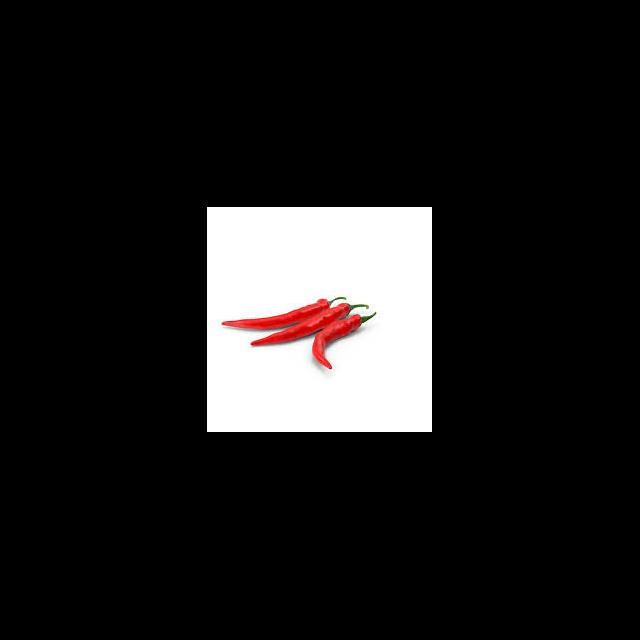chili_pepper: (250, 304, 350, 346), (222, 300, 333, 330), (314, 316, 364, 371)
